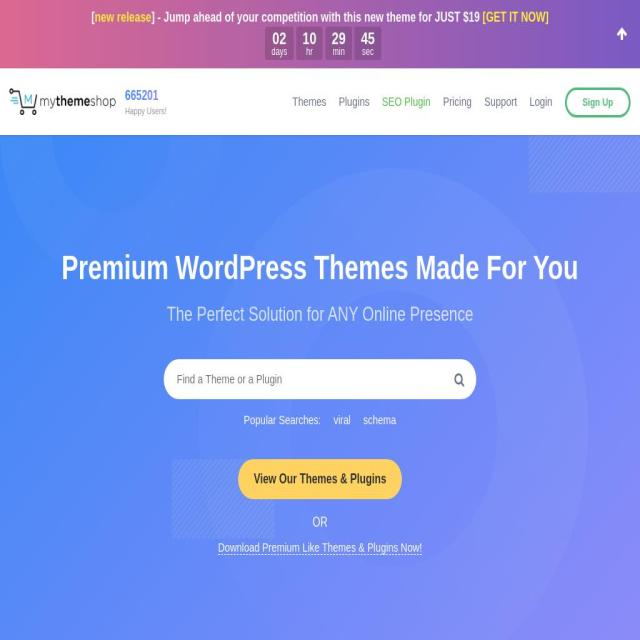button: (238, 459, 402, 499), (382, 68, 431, 135), (10, 88, 116, 116), (292, 68, 327, 135), (483, 68, 518, 135), (339, 68, 370, 135), (442, 68, 472, 135), (564, 88, 630, 118), (530, 68, 552, 135), (125, 89, 167, 116)
field: (164, 360, 476, 398)
heading: (61, 248, 579, 288)
image: (10, 88, 116, 116)
link: (482, 10, 550, 24), (94, 10, 152, 24), (363, 412, 396, 427), (333, 412, 351, 427)
text: (61, 298, 579, 330), (61, 510, 579, 535), (155, 10, 482, 24), (218, 540, 422, 555), (244, 412, 324, 427), (125, 89, 159, 103), (125, 106, 167, 115), (582, 96, 613, 108), (529, 94, 553, 108), (272, 30, 288, 47), (302, 30, 317, 47), (332, 30, 346, 47), (361, 30, 375, 47), (272, 46, 288, 56), (302, 46, 317, 56), (332, 46, 346, 56), (361, 46, 375, 56), (151, 10, 156, 24), (91, 10, 95, 24)
